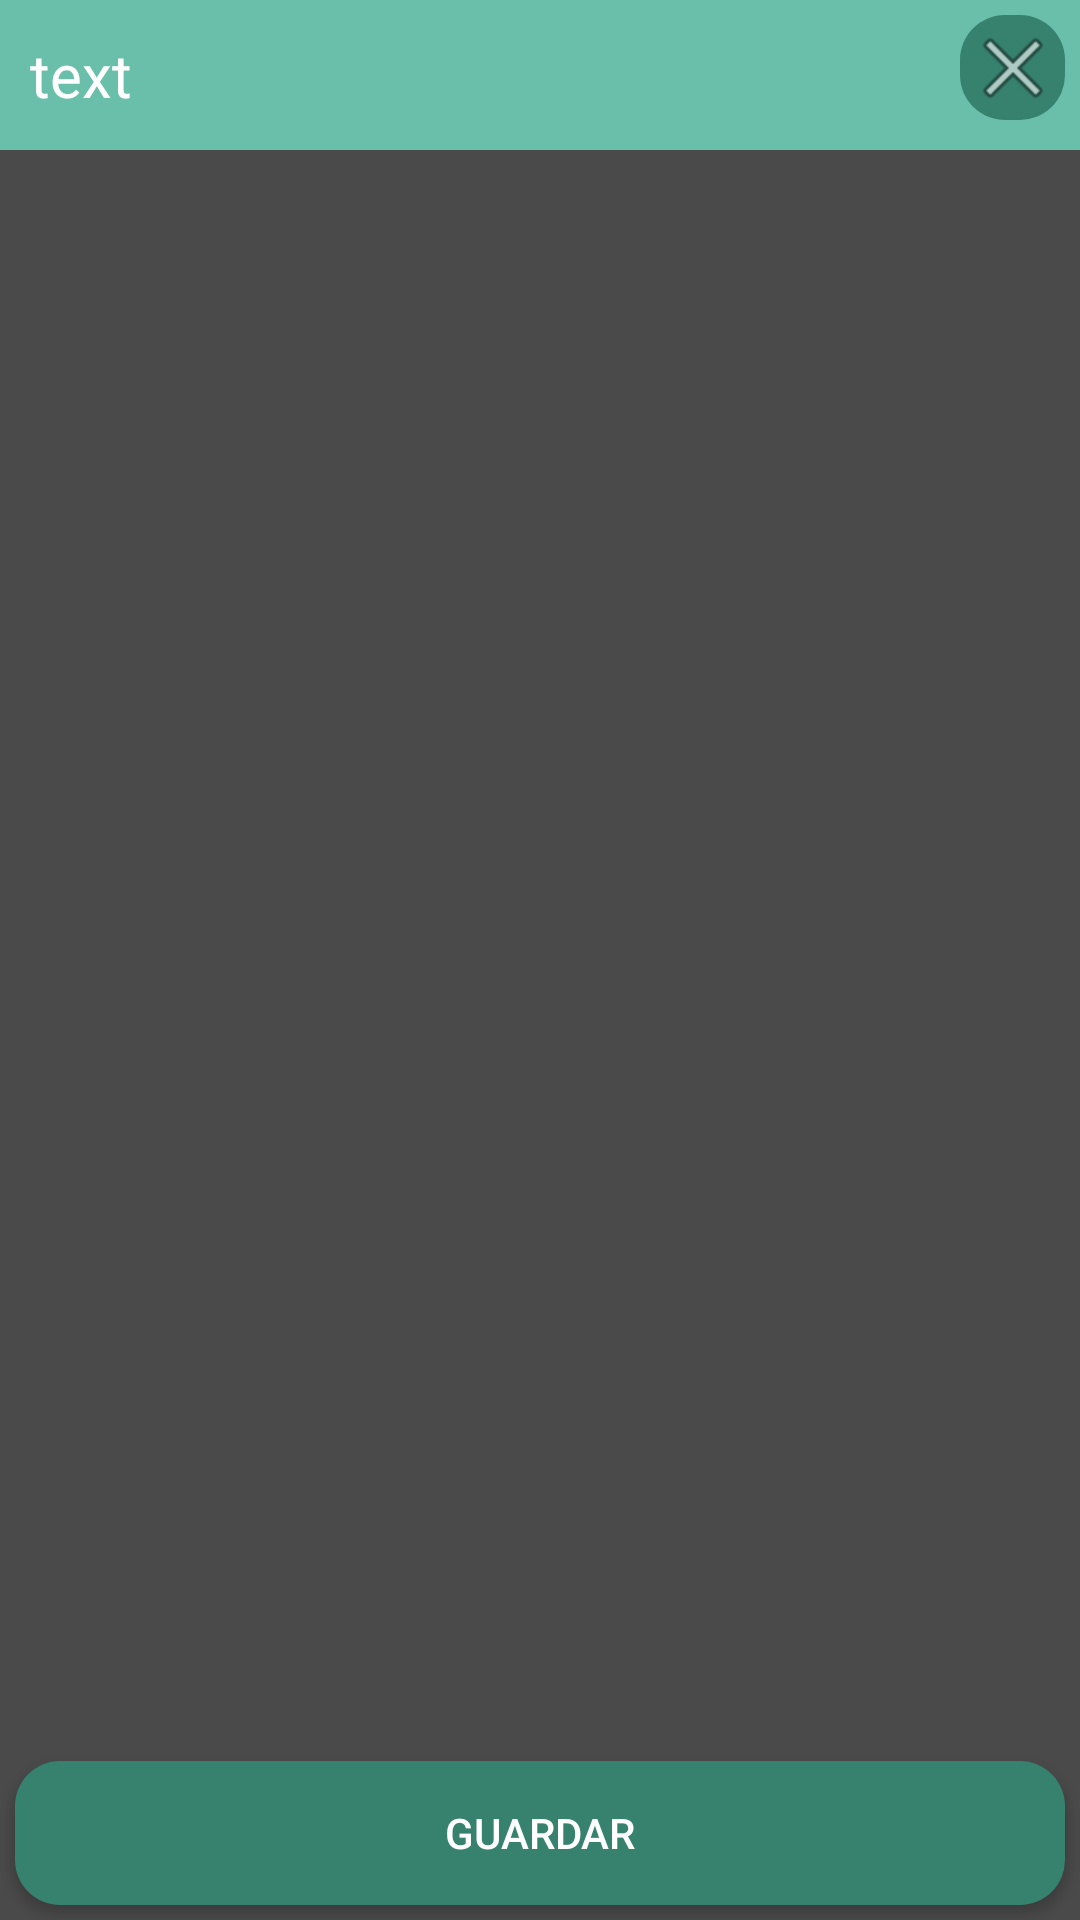

Where icons sit on this 1080x1920 app screen, as detection(x1, y1, x2, y2):
close clear cancel: detection(960, 15, 1065, 120)
